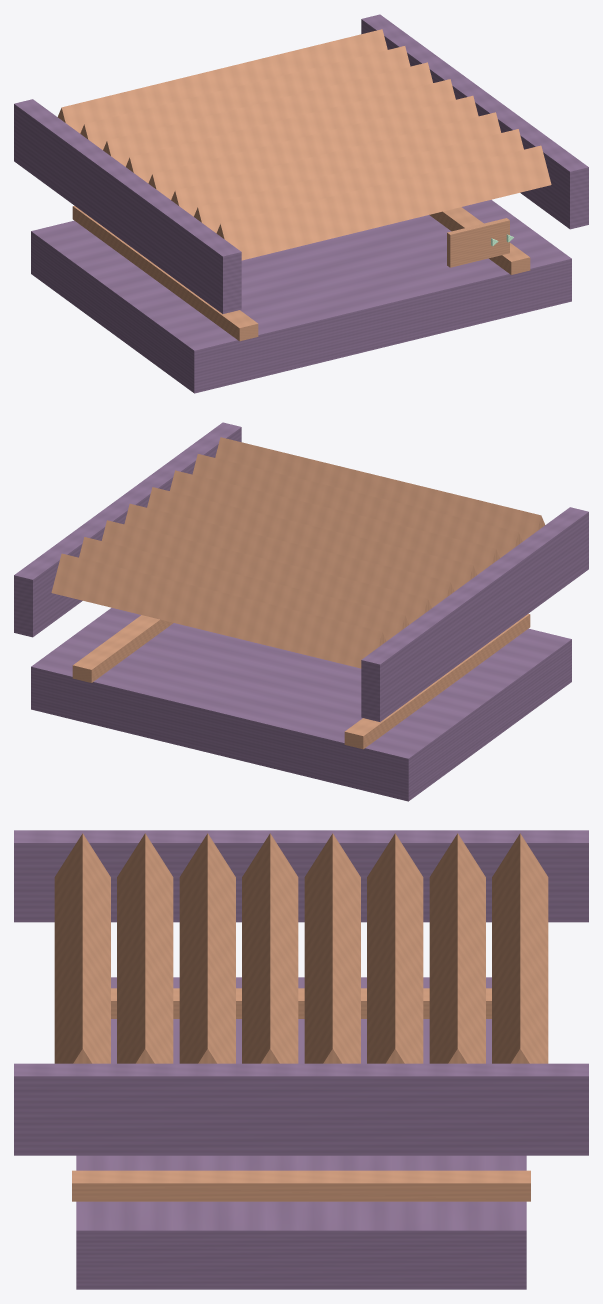
The model's file is atlas100-s086-a02.lod1.glb.
The picture shows the model from 3 angles, top to bottom: view 1: azimuth 30°, elevation 25°; view 2: azimuth 150°, elevation 25°; view 3: azimuth 270°, elevation 25°; orthographic projection. The views are drawn at different scales.
Parts seen in each view (by area): view 1: atlas100-s086-a02:part-000, atlas100-s086-a02:part-011, atlas100-s086-a02:part-010, atlas100-s086-a02:part-008, atlas100-s086-a02:part-004, atlas100-s086-a02:part-003, atlas100-s086-a02:part-005, atlas100-s086-a02:part-007, atlas100-s086-a02:part-009, atlas100-s086-a02:part-006, atlas100-s086-a02:part-012, atlas100-s086-a02:part-001 (+2 smaller); view 2: atlas100-s086-a02:part-000, atlas100-s086-a02:part-011, atlas100-s086-a02:part-003, atlas100-s086-a02:part-005, atlas100-s086-a02:part-009, atlas100-s086-a02:part-006, atlas100-s086-a02:part-008, atlas100-s086-a02:part-010, atlas100-s086-a02:part-004, atlas100-s086-a02:part-007, atlas100-s086-a02:part-012, atlas100-s086-a02:part-001 (+1 smaller); view 3: atlas100-s086-a02:part-012, atlas100-s086-a02:part-000, atlas100-s086-a02:part-011, atlas100-s086-a02:part-002, atlas100-s086-a02:part-003, atlas100-s086-a02:part-004, atlas100-s086-a02:part-005, atlas100-s086-a02:part-006, atlas100-s086-a02:part-007, atlas100-s086-a02:part-008, atlas100-s086-a02:part-009, atlas100-s086-a02:part-010 (+1 smaller).
Part boxes in pixels (x1,y1,x2,y2): atlas100-s086-a02:part-000: (31,199,571,393); atlas100-s086-a02:part-011: (14,99,241,313); atlas100-s086-a02:part-010: (216,145,551,260); atlas100-s086-a02:part-008: (171,112,501,216); atlas100-s086-a02:part-004: (80,46,410,149); atlas100-s086-a02:part-003: (58,29,387,133); atlas100-s086-a02:part-005: (103,62,432,166); atlas100-s086-a02:part-007: (148,95,478,199); atlas100-s086-a02:part-009: (194,129,523,233); atlas100-s086-a02:part-006: (126,79,455,183); atlas100-s086-a02:part-012: (361,14,588,229); atlas100-s086-a02:part-001: (72,206,258,341); atlas100-s086-a02:part-000: (31,607,571,801); atlas100-s086-a02:part-011: (361,507,588,721); atlas100-s086-a02:part-003: (51,553,386,668); atlas100-s086-a02:part-005: (101,520,431,624); atlas100-s086-a02:part-009: (192,454,522,557); atlas100-s086-a02:part-006: (124,503,454,607); atlas100-s086-a02:part-008: (170,470,499,574); atlas100-s086-a02:part-010: (215,437,544,541); atlas100-s086-a02:part-004: (79,537,408,641); atlas100-s086-a02:part-007: (147,487,476,591); atlas100-s086-a02:part-012: (14,422,241,637); atlas100-s086-a02:part-001: (344,614,530,749); atlas100-s086-a02:part-012: (14,1063,588,1155); atlas100-s086-a02:part-000: (76,977,526,1289); atlas100-s086-a02:part-011: (14,830,588,922); atlas100-s086-a02:part-002: (72,1170,530,1201); atlas100-s086-a02:part-003: (492,833,548,1063); atlas100-s086-a02:part-004: (429,833,485,1063); atlas100-s086-a02:part-005: (367,833,423,1063); atlas100-s086-a02:part-006: (304,833,360,1063); atlas100-s086-a02:part-007: (242,833,298,1063); atlas100-s086-a02:part-008: (179,833,235,1063); atlas100-s086-a02:part-009: (117,833,173,1063); atlas100-s086-a02:part-010: (54,833,110,1063).
Bounding box in the file's own units: 2.4 × 0.98 × 2.3.
3 materials, 3 textured.
